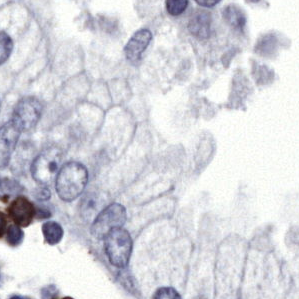Lymphocyte: (8, 195, 38, 224)
